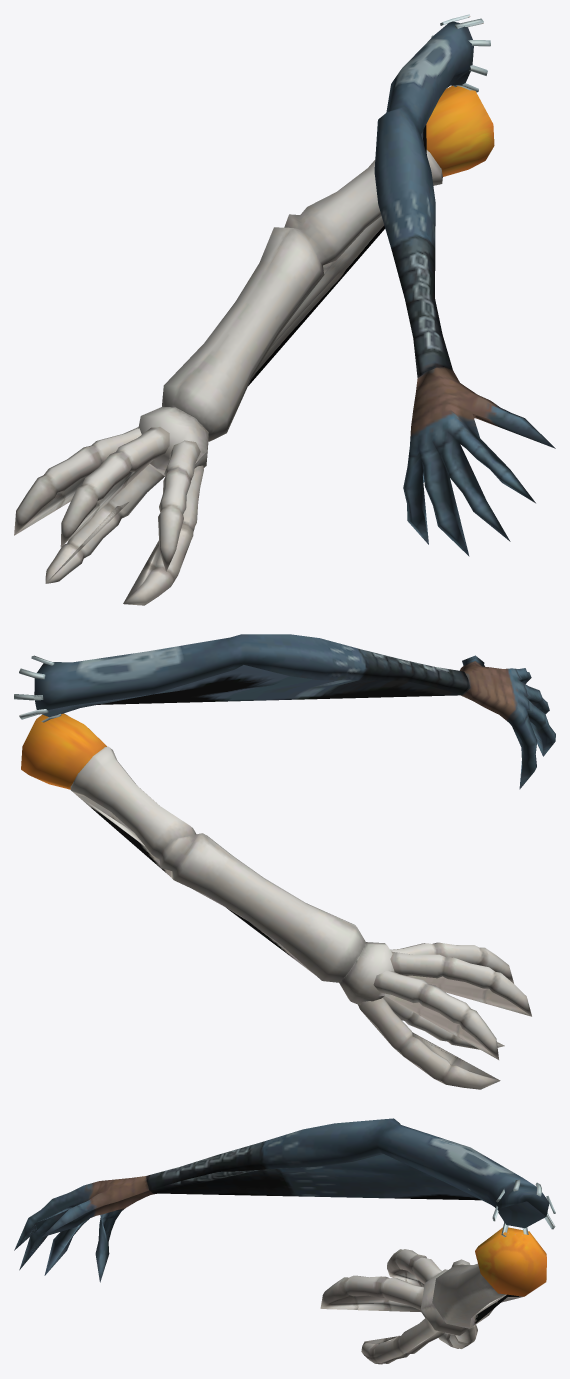
File: right_arm-5_kimeramon.blend.obj
The picture shows the model from 3 angles, top to bottom: view 1: azimuth 30°, elevation 25°; view 2: azimuth 150°, elevation 25°; view 3: azimuth 270°, elevation 25°; orthographic projection. The views are drawn at different scales.
Parts seen in each view (by area): view 1: right_arm-5_kimeramon.blend_nifid_4-matrix_Chimairamon-lib; view 2: right_arm-5_kimeramon.blend_nifid_4-matrix_Chimairamon-lib; view 3: right_arm-5_kimeramon.blend_nifid_4-matrix_Chimairamon-lib.
Boxes of the visible parts, bbox=[...] form: right_arm-5_kimeramon.blend_nifid_4-matrix_Chimairamon-lib: bbox=[14, 14, 555, 605]; right_arm-5_kimeramon.blend_nifid_4-matrix_Chimairamon-lib: bbox=[14, 634, 555, 1089]; right_arm-5_kimeramon.blend_nifid_4-matrix_Chimairamon-lib: bbox=[14, 1118, 555, 1364].
Bounding box in the file's own units: 6.38 × 5.12 × 7.26.
1 material, 1 textured.
